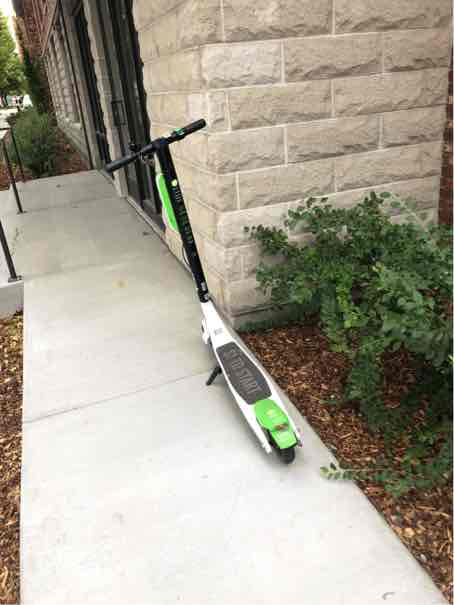scooter: (78, 104, 326, 478)
